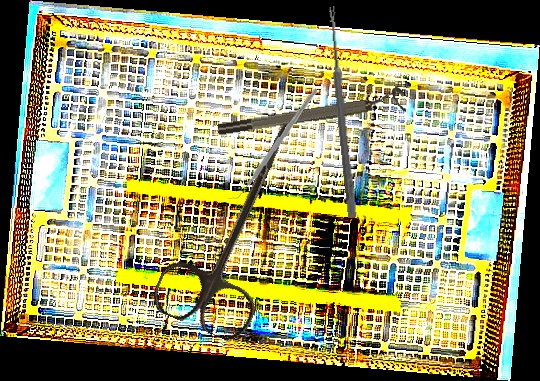Chopper: (227, 83, 317, 205)
Fixation Ring: (215, 86, 407, 139)
Iris Scissors: (147, 98, 329, 347)
Surgical Spoon: (325, 6, 359, 218)
